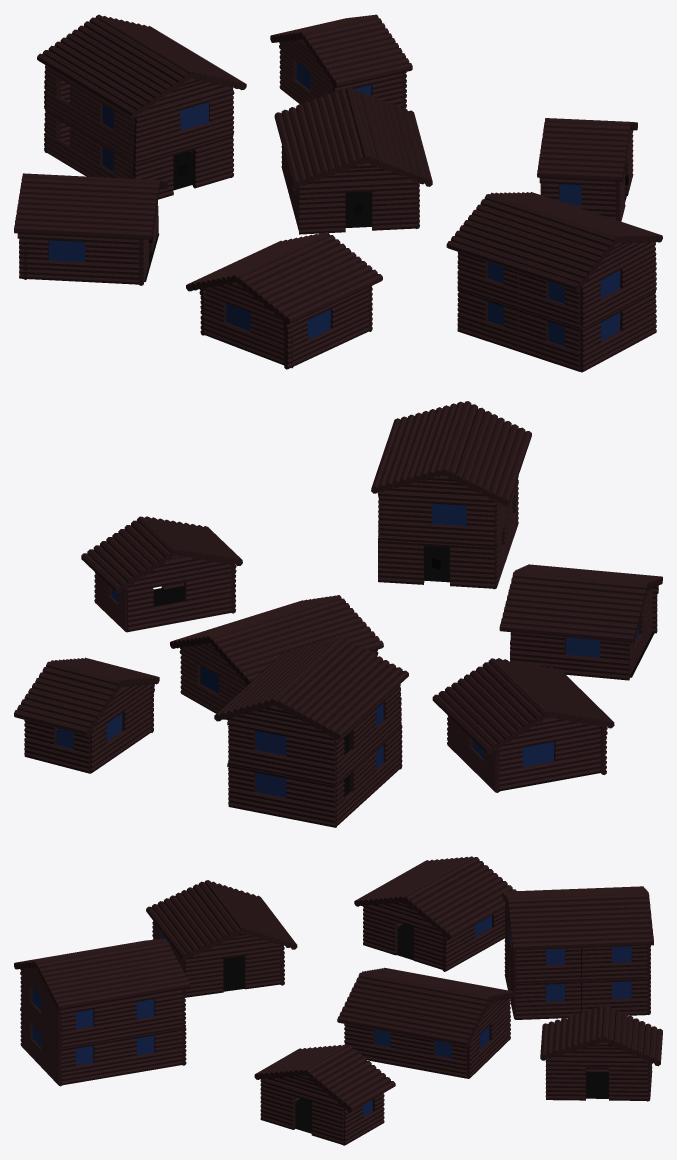
File: duzawioska.fbx
3 renders of one model, top to bottom at view 1: azimuth 30°, elevation 25°; view 2: azimuth 150°, elevation 25°; view 3: azimuth 270°, elevation 25°, orthographic. The views are drawn at different scales.
Parts seen in each view (by area): view 1: Cylinder.1001, Cylinder.601, Cylinder.1009, Cylinder.1004, Cylinder.1003, Cylinder.817, Cylinder.1005, Cylinder.1006, Cylinder.1008, Cylinder.1010, Cylinder.1007, Cylinder.1002 (+72 smaller); view 2: Cylinder.678, Cylinder.158, Cylinder.686, Cylinder.681, Cylinder.154, Cylinder.155, Cylinder.680, Cylinder.157, Cylinder.682, Cylinder.156, Cylinder.159, Cylinder.683 (+51 smaller); view 3: Cylinder.807, Cylinder.1011, Cylinder.140, Cylinder.815, Plane.034, Cylinder.810, Cylinder.809, Cylinder.148, Cylinder.811, Cylinder.143, Cylinder.812, Cylinder.814 (+48 smaller).
Boxes of the visible parts, <box> form: Cylinder.1001: <box>446,241,580,291</box>; Cylinder.601: <box>14,225,152,239</box>; Cylinder.1009: <box>480,199,614,249</box>; Cylinder.1004: <box>459,225,593,275</box>; Cylinder.1003: <box>455,230,589,280</box>; Cylinder.817: <box>37,53,138,117</box>; Cylinder.1005: <box>463,220,597,270</box>; Cylinder.1006: <box>468,214,602,265</box>; Cylinder.1008: <box>476,204,610,254</box>; Cylinder.1010: <box>484,194,618,244</box>; Cylinder.1007: <box>472,209,606,260</box>; Cylinder.1002: <box>450,236,584,286</box>; Cylinder.678: <box>499,623,635,643</box>; Cylinder.158: <box>214,603,349,651</box>; Cylinder.686: <box>511,577,646,597</box>; Cylinder.681: <box>504,606,639,625</box>; Cylinder.154: <box>231,621,366,670</box>; Cylinder.155: <box>227,617,362,665</box>; Cylinder.680: <box>502,612,637,631</box>; Cylinder.157: <box>218,608,354,656</box>; Cylinder.682: <box>505,600,640,619</box>; Cylinder.156: <box>223,612,358,660</box>; Cylinder.159: <box>210,598,345,646</box>; Cylinder.683: <box>507,594,642,614</box>; Cylinder.807: <box>512,938,653,950</box>; Cylinder.1011: <box>56,981,190,1010</box>; Cylinder.140: <box>337,1016,469,1046</box>; Cylinder.815: <box>508,898,649,909</box>; Plane.034: <box>188,956,281,996</box>; Cylinder.810: <box>511,923,652,934</box>; Cylinder.809: <box>511,928,652,939</box>; Cylinder.148: <box>356,977,488,1007</box>; Cylinder.811: <box>510,918,651,929</box>; Cylinder.143: <box>344,1001,476,1031</box>; Cylinder.812: <box>510,913,651,924</box>; Cylinder.814: <box>509,903,650,914</box>.
Bounding box in the file's own units: 12957 × 2560 × 14585.
